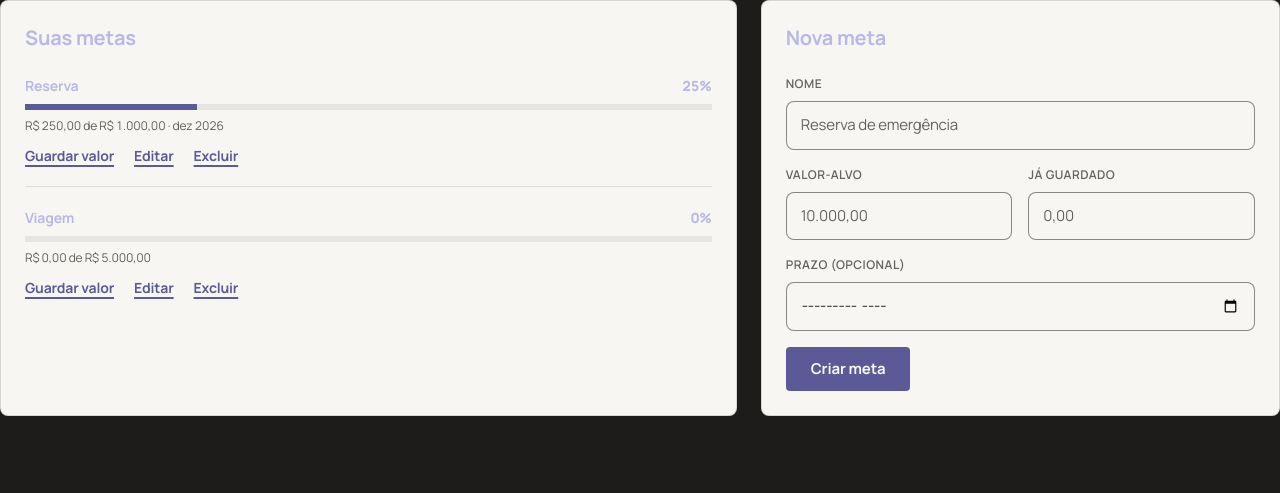
Scenario: GoalsPage › shows the server's error when saving fails
Step 1. Type "Carro" into the field labelled "Nome" → (1020, 125), box [786,101,1255,150]
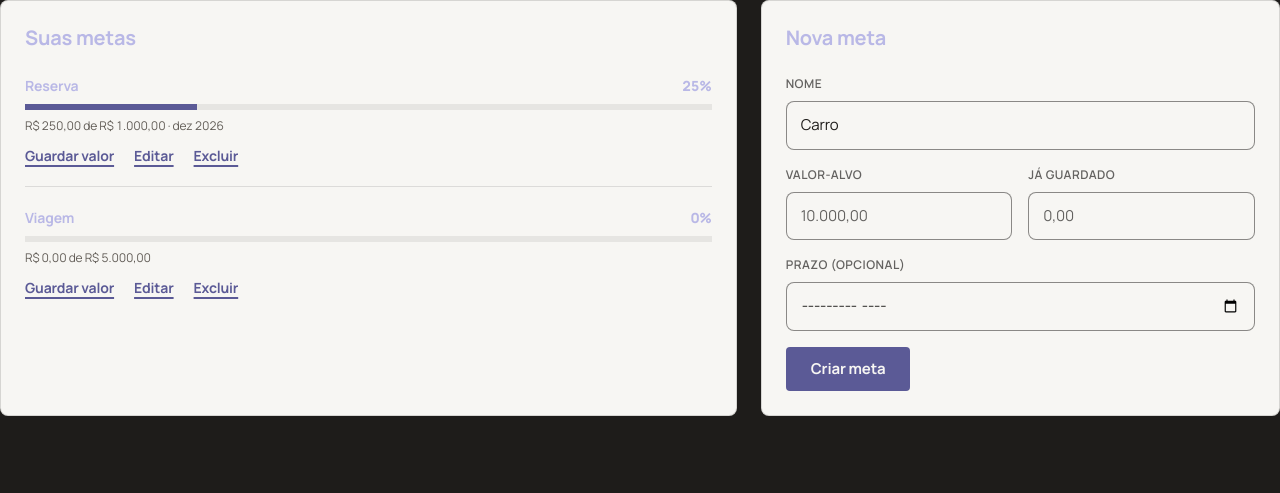
Step 2. Type "30000" into the field labelled "Valor-alvo" → (899, 216), box [786,192,1012,240]
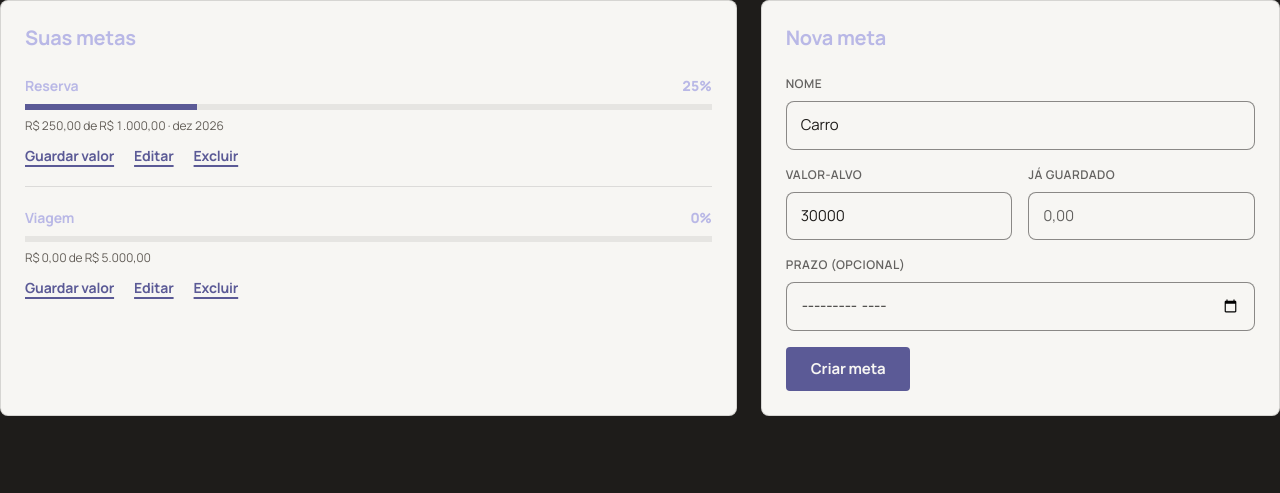
Step 3. Click the button "Criar meta" → (848, 368), box [786,346,910,390]
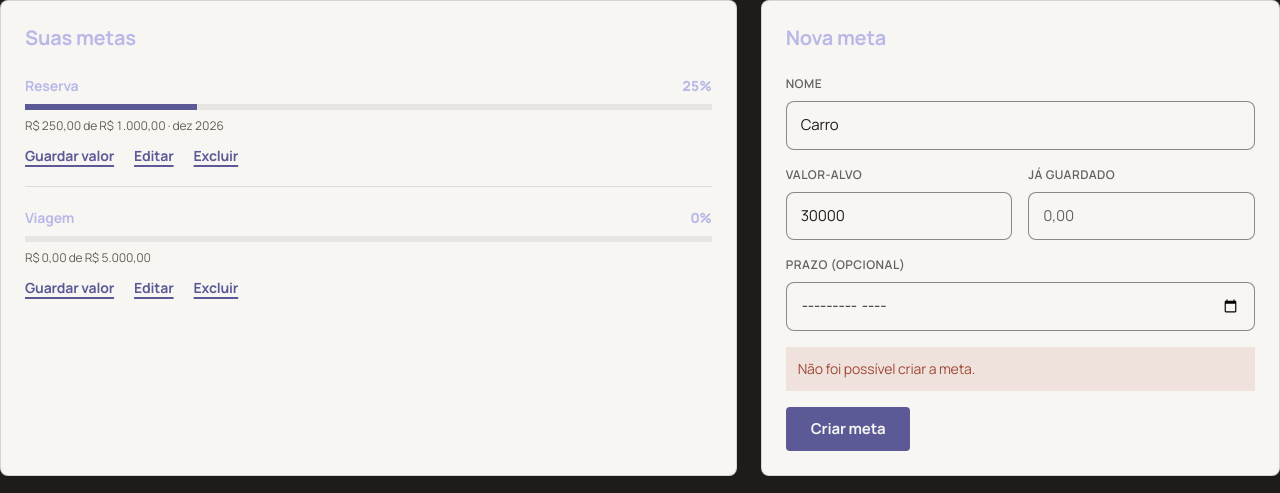
Now the message reads "Não foi possível criar a meta.", box [798,358,975,378]
